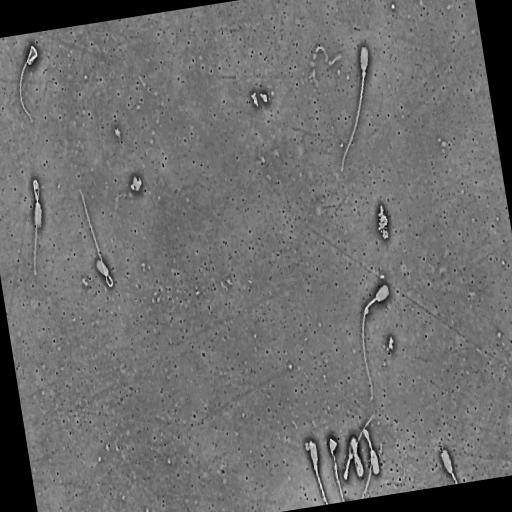coiled-tail: (19, 44, 37, 119)
dirt-particles: (376, 200, 390, 243), (128, 172, 142, 193), (250, 89, 260, 109), (386, 332, 394, 352), (259, 91, 268, 104), (304, 439, 313, 452)
distal-droplet: (365, 306, 368, 313)
folded-tail: (80, 191, 112, 286), (344, 416, 372, 479), (362, 429, 372, 497), (34, 202, 38, 274), (33, 180, 38, 202), (365, 431, 369, 441)
normal: (341, 43, 369, 168), (78, 187, 113, 287), (361, 282, 389, 402), (342, 411, 375, 482), (17, 42, 39, 124), (360, 426, 382, 498), (307, 438, 329, 504), (32, 176, 43, 275)
proximal-droplet: (313, 463, 317, 470), (362, 70, 365, 77)
